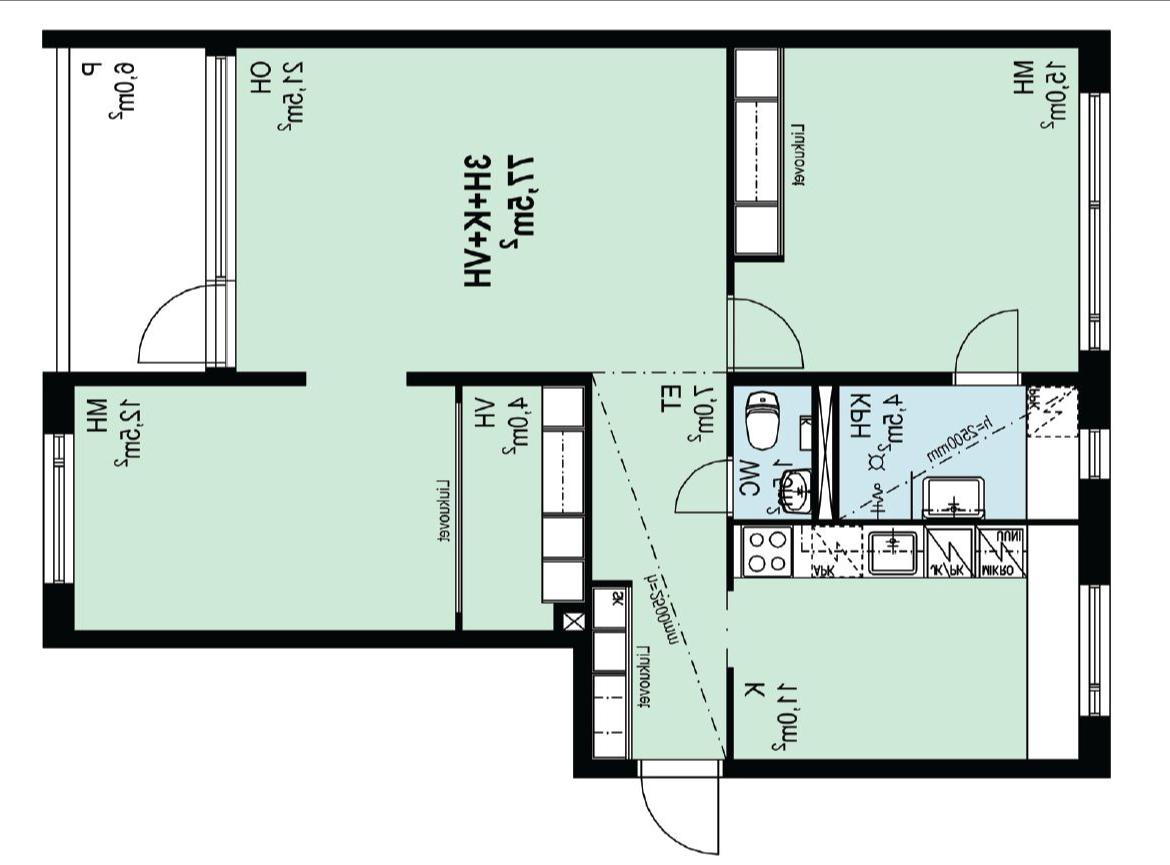door: (136, 280, 247, 375), (634, 756, 721, 858), (718, 292, 812, 373), (948, 302, 1026, 390), (668, 452, 744, 521)
window: (1071, 79, 1122, 362), (204, 46, 243, 285), (36, 423, 81, 594), (1074, 576, 1116, 726), (1074, 419, 1120, 488)
